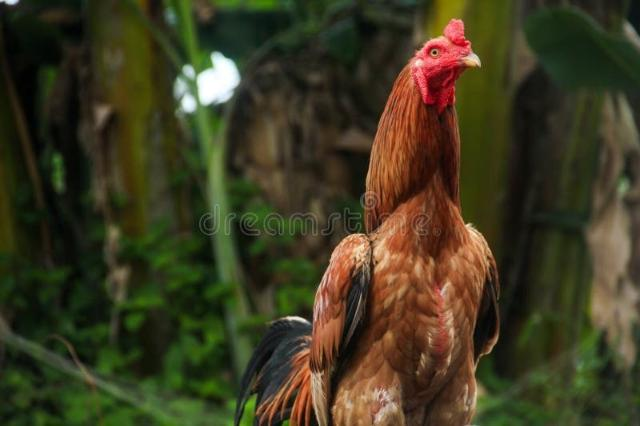Chicken: (235, 18, 500, 426)
